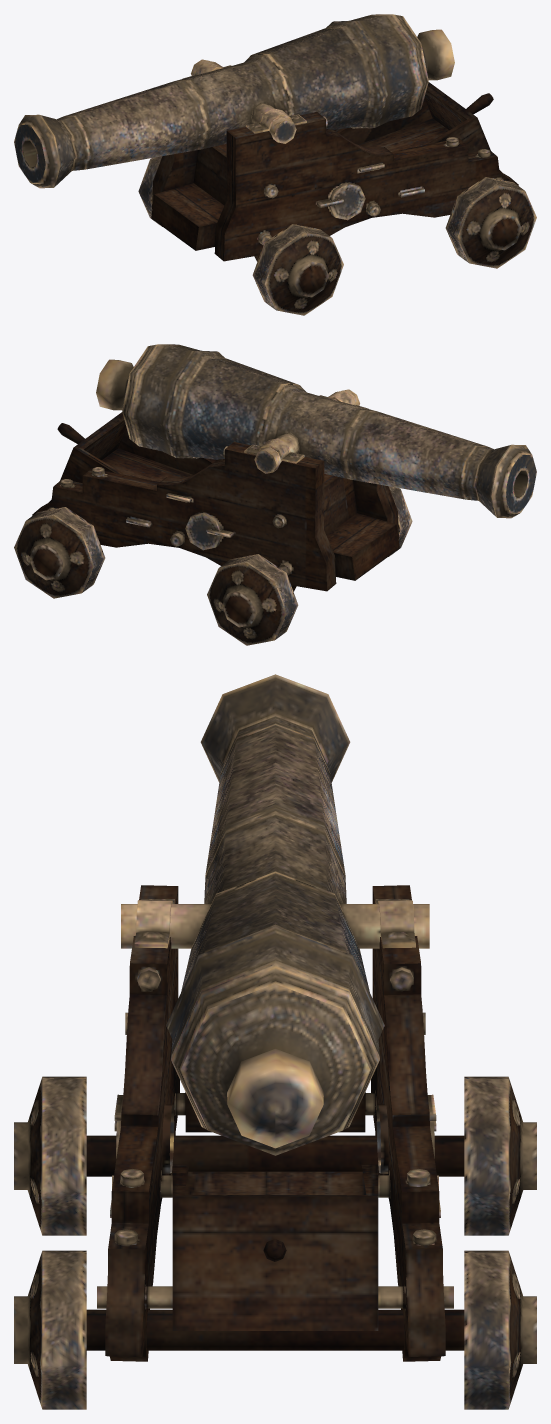
The model's file is armata_lod_lvl_03.fbx.
The picture shows the model from 3 angles, top to bottom: view 1: azimuth 30°, elevation 25°; view 2: azimuth 150°, elevation 25°; view 3: azimuth 270°, elevation 25°; orthographic projection. The views are drawn at different scales.
Parts seen in each view (by area): view 1: armata_lod_lvl3; view 2: armata_lod_lvl3; view 3: armata_lod_lvl3.
Boxes of the visible parts, x1,y1,x2,y2 form: armata_lod_lvl3: [14, 14, 536, 315]; armata_lod_lvl3: [14, 344, 536, 645]; armata_lod_lvl3: [14, 674, 536, 1409].
Bounding box in the file's own units: 205 × 93.42 × 109.
1 material, 1 textured.
